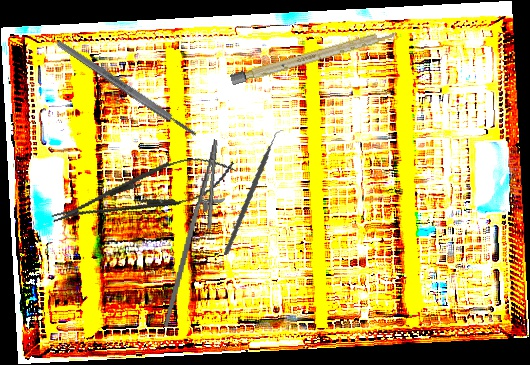Chopper: (206, 129, 306, 255)
Needle Holder: (45, 144, 241, 240), (162, 135, 234, 333)
Scalpel Handle: (54, 38, 199, 139), (229, 27, 398, 86)
